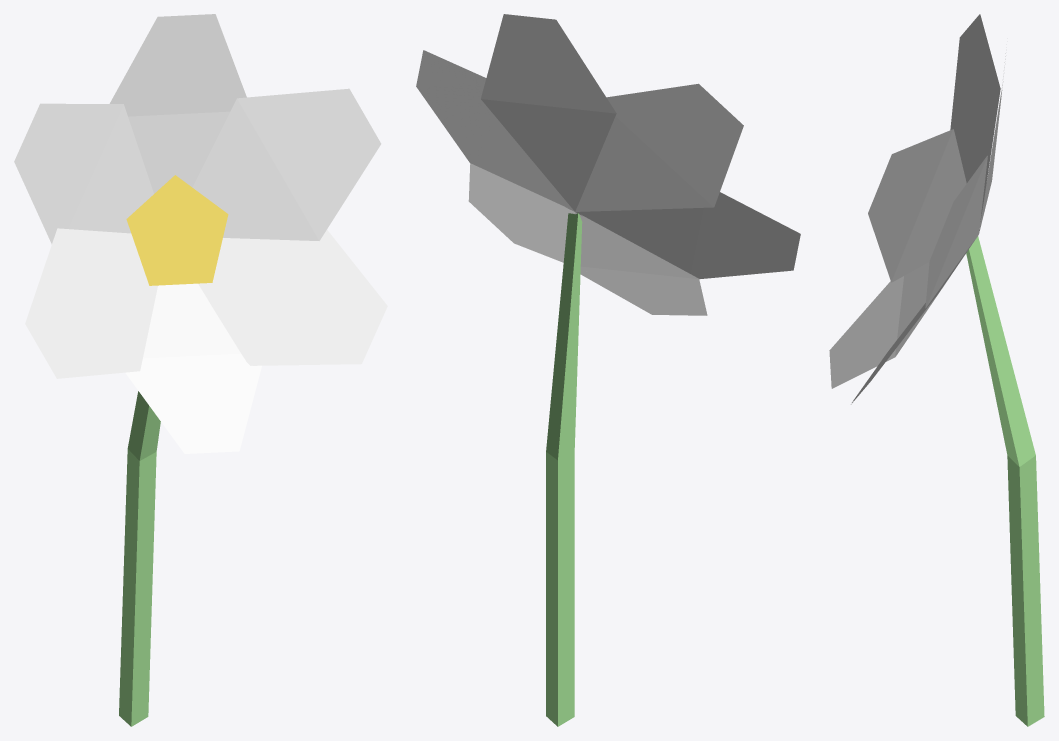
File: Flower_e_TwoS_03.fbx
3 views of the same model, side by side, from view 1: azimuth 30°, elevation 25°; view 2: azimuth 150°, elevation 25°; view 3: azimuth 270°, elevation 25° (orthographic). The views are drawn at different scales.
Parts seen in each view (by area): view 1: Flower_e_TwoS_03; view 2: Flower_e_TwoS_03; view 3: Flower_e_TwoS_03.
Boxes of the visible parts, x1,y1,x2,y2 form: Flower_e_TwoS_03: [14, 14, 387, 726]; Flower_e_TwoS_03: [416, 14, 800, 726]; Flower_e_TwoS_03: [829, 14, 1044, 726].
Bounding box in the file's own units: 20.34 × 36.6 × 10.29.
